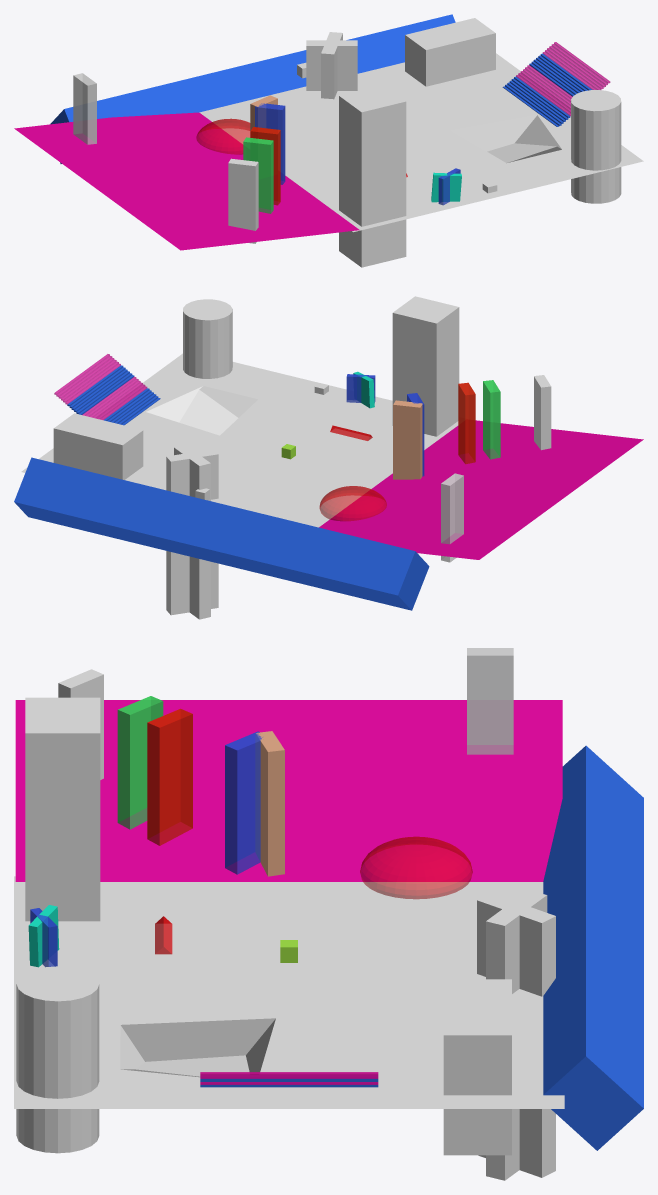
Rendered from map04.gltf.
3 views of the same model, one above another, from view 1: azimuth 30°, elevation 25°; view 2: azimuth 150°, elevation 25°; view 3: azimuth 270°, elevation 25° (orthographic). The views are drawn at different scales.
Parts seen in each view (by area): view 1: map04, Плоскость.001, Cube.004, Куб.003, Куб, Куб.005, Сфера, Куб.002, Куб.007, Куб.004, Куб.009, Куб.001 (+4 smaller); view 2: map04, Cube.004, Плоскость.001, Куб.010, Сфера, Куб, Куб.005, Куб.001, Куб.006, Куб.002, Куб.007, Куб.003 (+2 smaller); view 3: map04, Плоскость.001, Cube.004, Куб.001, Куб.006, Сфера, Куб, Куб.005, Куб.004, Куб.009, Куб.002, Куб.010 (+6 smaller).
Part boxes in pixels (bbox=[...]): map04: bbox=[199, 18, 643, 267]; Плоскость.001: bbox=[14, 112, 359, 250]; Cube.004: bbox=[50, 14, 455, 163]; Куб.003: bbox=[228, 158, 258, 243]; Куб: bbox=[73, 73, 96, 144]; Куб.005: bbox=[73, 73, 96, 144]; Сфера: bbox=[196, 118, 250, 154]; Куб.002: bbox=[243, 137, 273, 213]; Куб.007: bbox=[243, 137, 273, 213]; Куб.004: bbox=[255, 103, 285, 184]; Куб.009: bbox=[255, 104, 284, 184]; Куб.001: bbox=[250, 127, 280, 205]; map04: bbox=[21, 296, 459, 619]; Cube.004: bbox=[14, 457, 429, 610]; Плоскость.001: bbox=[319, 420, 643, 559]; Куб.010: bbox=[393, 400, 422, 479]; Сфера: bbox=[319, 486, 386, 521]; Куб: bbox=[441, 473, 463, 562]; Куб.005: bbox=[441, 473, 463, 561]; Куб.001: bbox=[458, 383, 475, 463]; Куб.006: bbox=[458, 383, 475, 463]; Куб.002: bbox=[483, 380, 500, 459]; Куб.007: bbox=[483, 380, 500, 459]; Куб.003: bbox=[534, 375, 551, 450]; map04: bbox=[14, 697, 564, 1180]; Плоскость.001: bbox=[15, 700, 562, 881]; Cube.004: bbox=[543, 745, 643, 1150]; Куб.001: bbox=[147, 709, 192, 845]; Куб.006: bbox=[147, 709, 192, 845]; Сфера: bbox=[360, 836, 472, 899]; Куб: bbox=[467, 648, 513, 754]; Куб.005: bbox=[467, 648, 513, 754]; Куб.004: bbox=[225, 731, 262, 874]; Куб.009: bbox=[225, 732, 261, 874]; Куб.002: bbox=[117, 696, 163, 829]; Куб.010: bbox=[255, 731, 284, 876].
Bounding box in the file's own units: 105 × 46.25 × 71.52.
